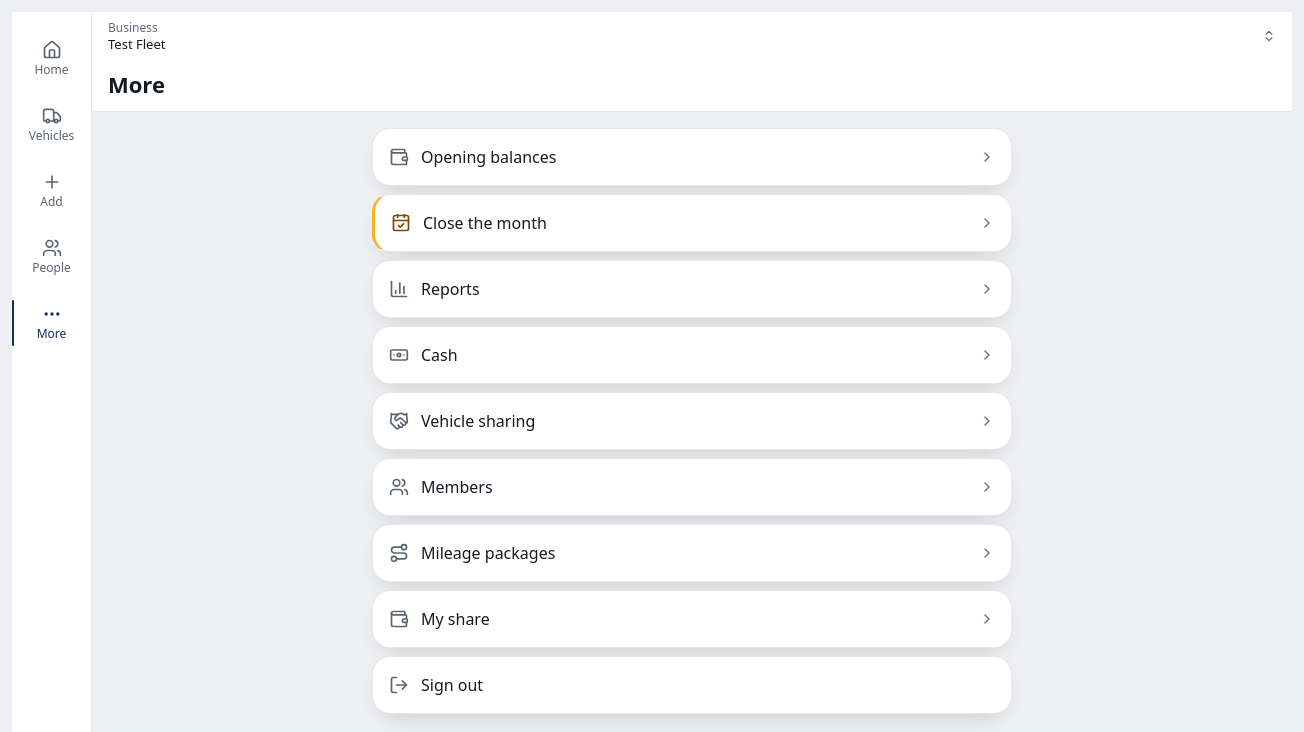
it: B12/GAP-61 — More → Opening balances reaches the real screen, not a placeholder
What coordinates should you click on to do the following:
click the button "Opening balances"
I would click on:
 (692, 157)
Its box is [372,128,1012,186].
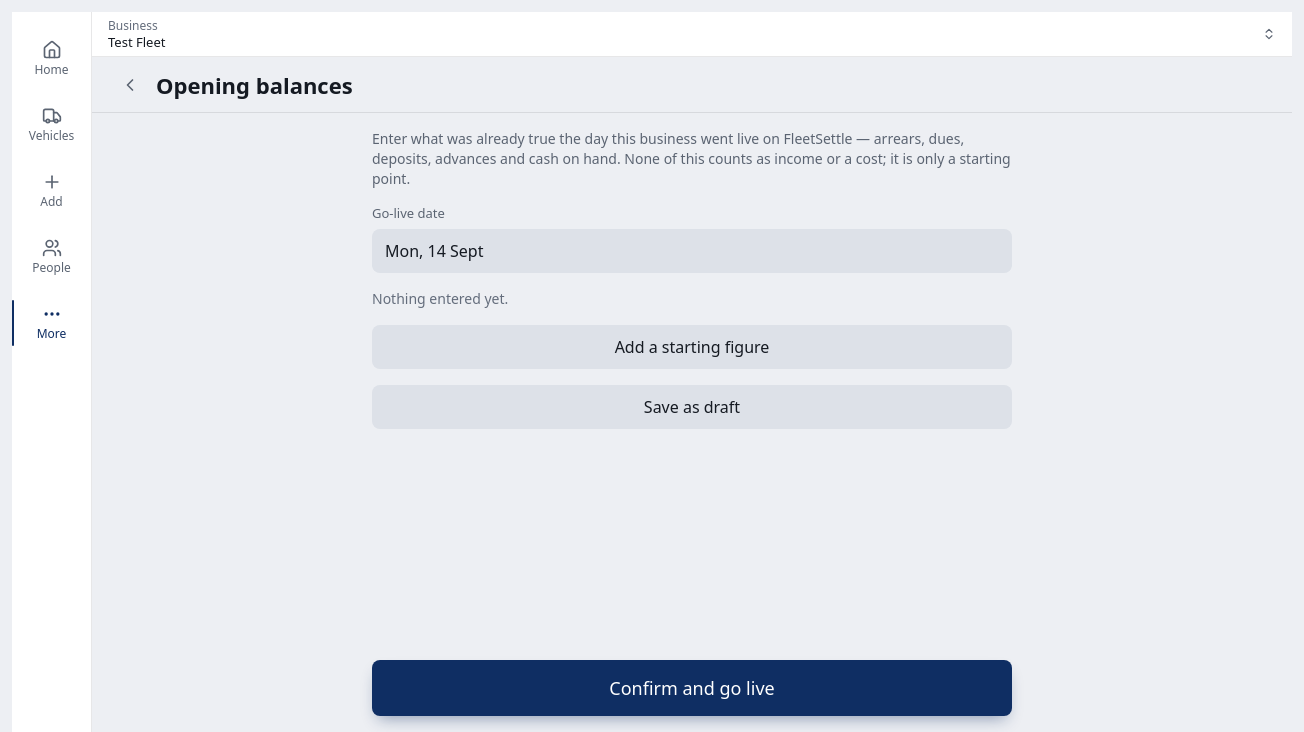
Expected: the heading "Opening balances" is shown, [156,70,353,98]
